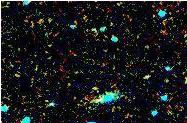star: (80, 72, 110, 102)
